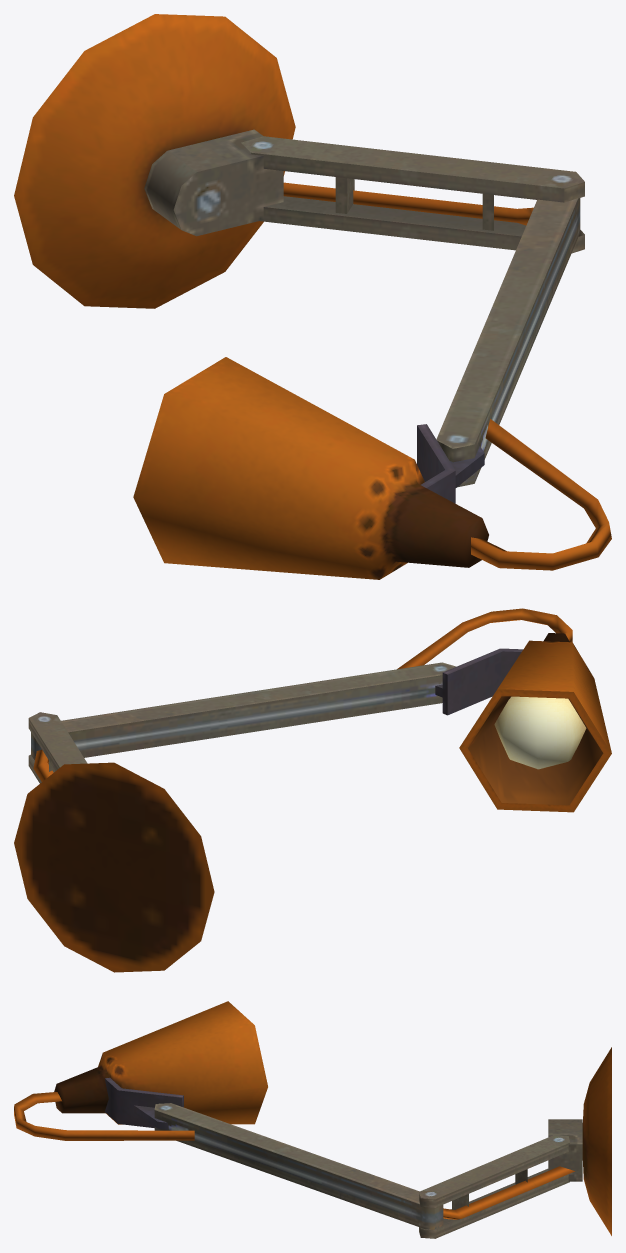
Rendered from nt_2020_lamp_desk_on_LOD1.obj.
3 views of the same model, one above another, from view 1: azimuth 30°, elevation 25°; view 2: azimuth 150°, elevation 25°; view 3: azimuth 270°, elevation 25° (orthographic). The views are drawn at different scales.
Parts seen in each view (by area): view 1: mtl_nt_2020_lamp_desk; view 2: mtl_nt_2020_lamp_desk, mtl_p_pent_lamp_bulb_on; view 3: mtl_nt_2020_lamp_desk.
Boxes of the visible parts, <box> form: mtl_nt_2020_lamp_desk: <box>14,14,611,579</box>; mtl_nt_2020_lamp_desk: <box>14,608,611,972</box>; mtl_p_pent_lamp_bulb_on: <box>494,696,586,769</box>; mtl_nt_2020_lamp_desk: <box>14,1001,611,1238</box>.
Bounding box in the file's own units: 43.35 × 19.35 × 60.69.
